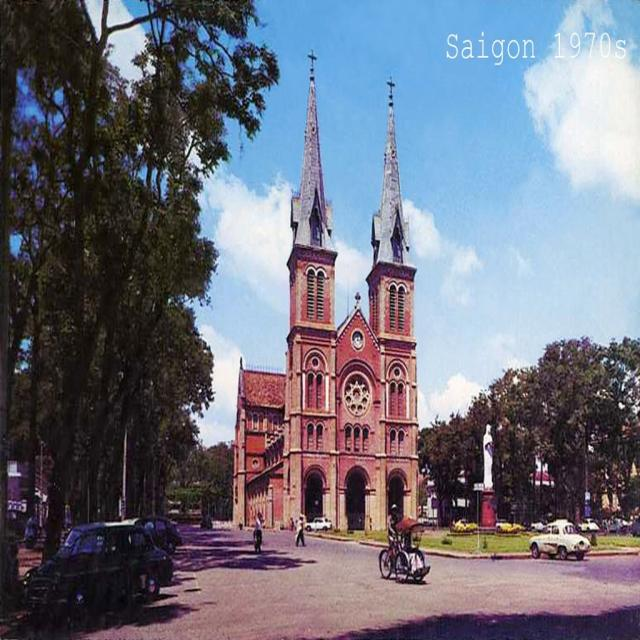car: (18, 522, 174, 626), (526, 515, 590, 562)
